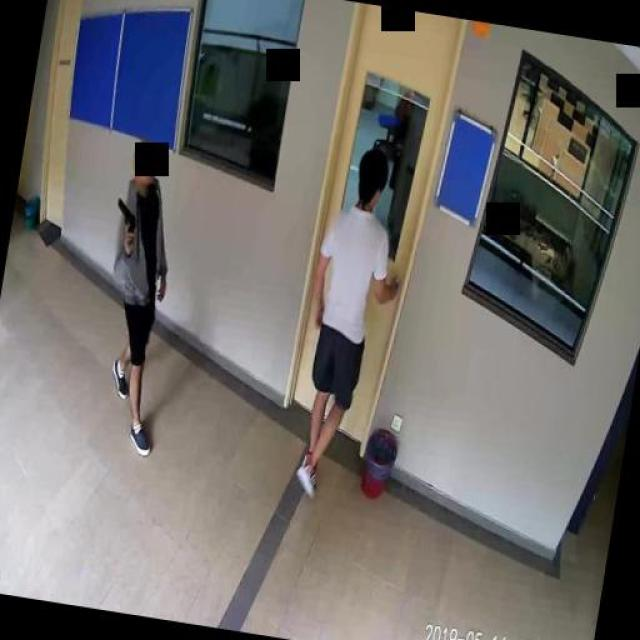gun: (109, 195, 139, 247)
